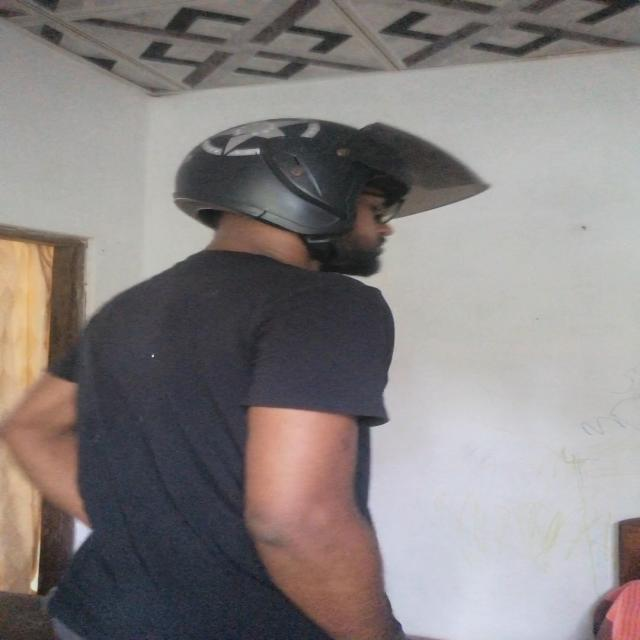Helmet_Wearer: (150, 101, 502, 296)
Person: (24, 106, 520, 638)
